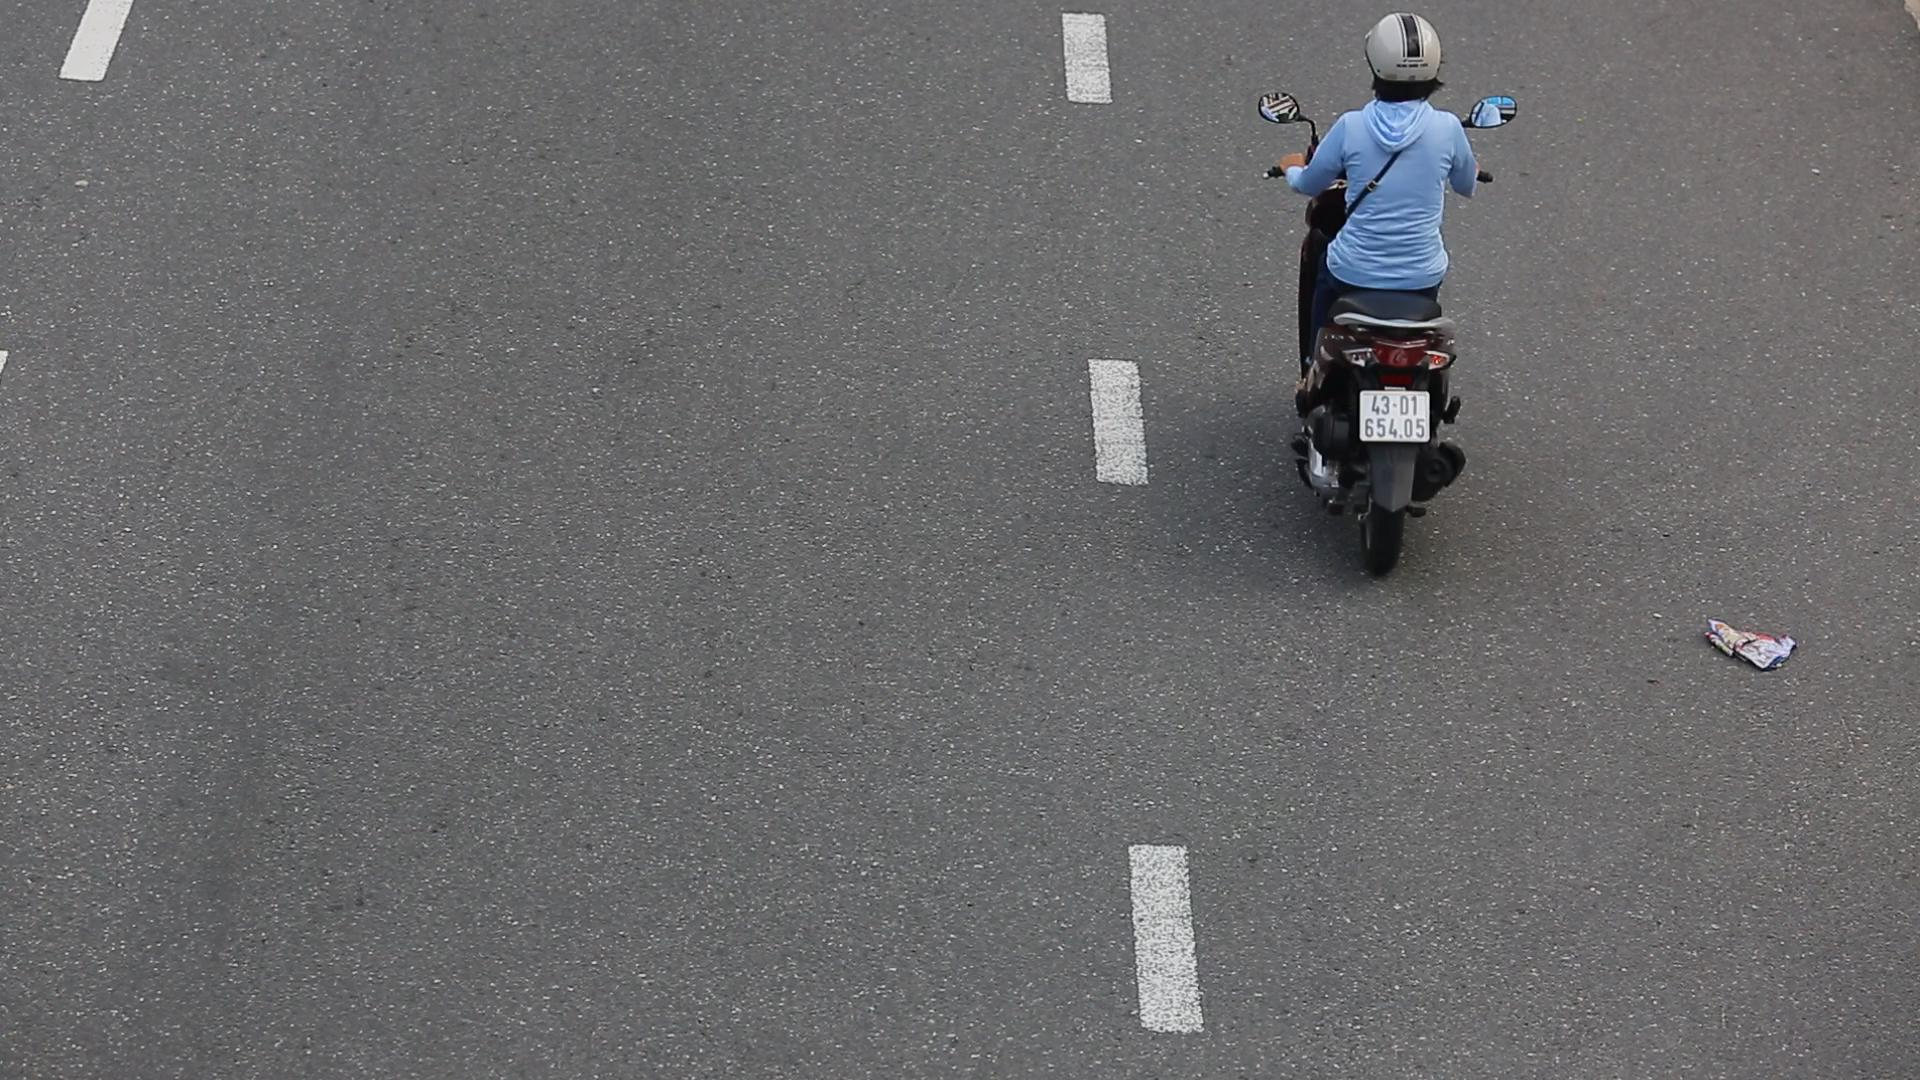motobike: (1254, 7, 1527, 574)
